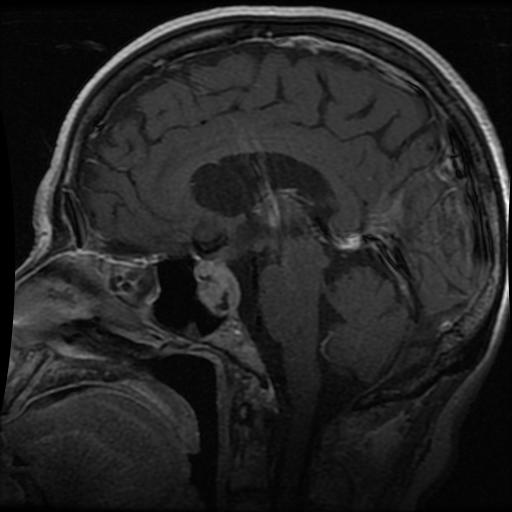Pituirity_tumour: (193, 257, 238, 317)
